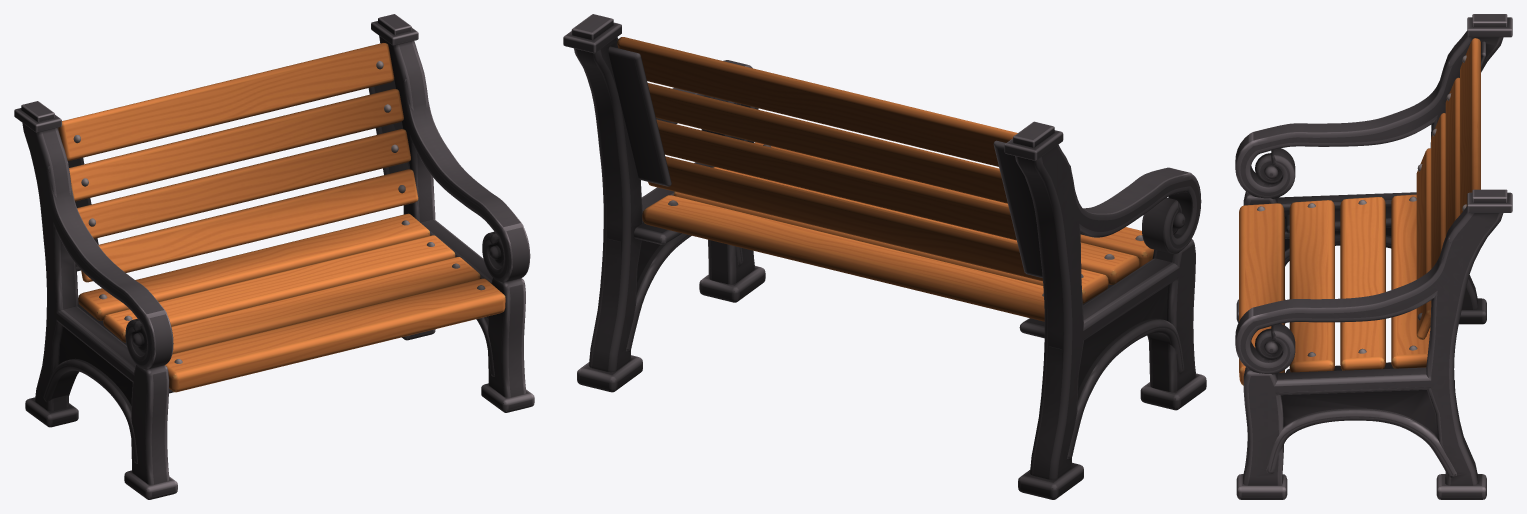
Rendered from houdini_residential_park_bench.glb.
The picture shows the model from 3 angles, left to right: view 1: azimuth 30°, elevation 25°; view 2: azimuth 150°, elevation 25°; view 3: azimuth 270°, elevation 25°; orthographic projection. The views are drawn at different scales.
Parts seen in each view (by area): view 1: LOD0; view 2: LOD0; view 3: LOD0.
Part boxes in pixels (<box>): LOD0: <box>14,14,534,499</box>; LOD0: <box>563,14,1206,499</box>; LOD0: <box>1235,14,1512,499</box>.
Size of what is drawn, in the model's own units: 1.8 by 1.32 by 1.1.
Materials: 2 (2 with a texture image).
